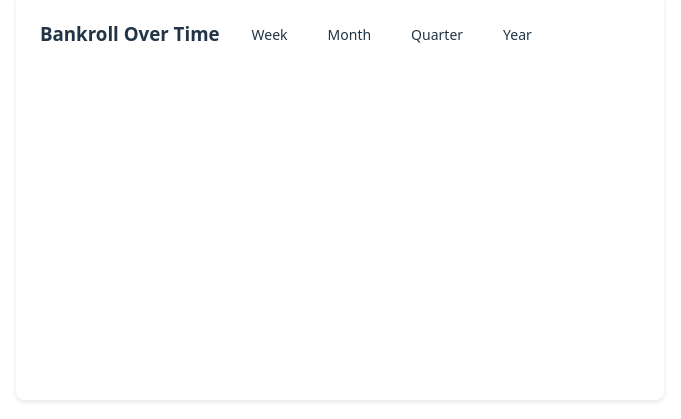
Test: BankrollChart › displays empty state when no sessions match time filter
This screenshot has width=681, height=419.
What coordinates should you click on to do the following:
click the button "Week"
I would click on:
 (270, 34)
Its box is [236,16,304,52].
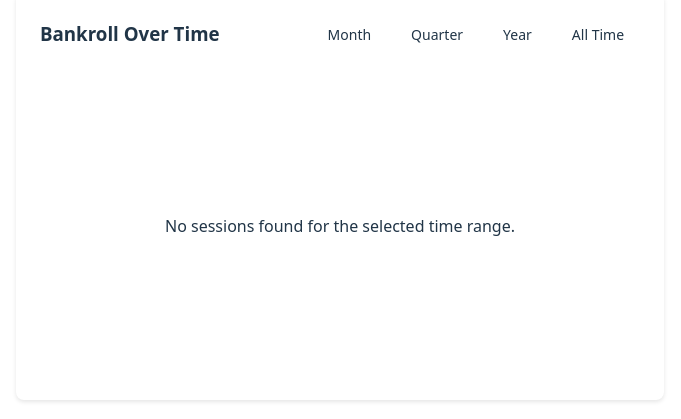
expect the text "No sessions found for the selected time range." is shown: met, box [165,214,515,236]
